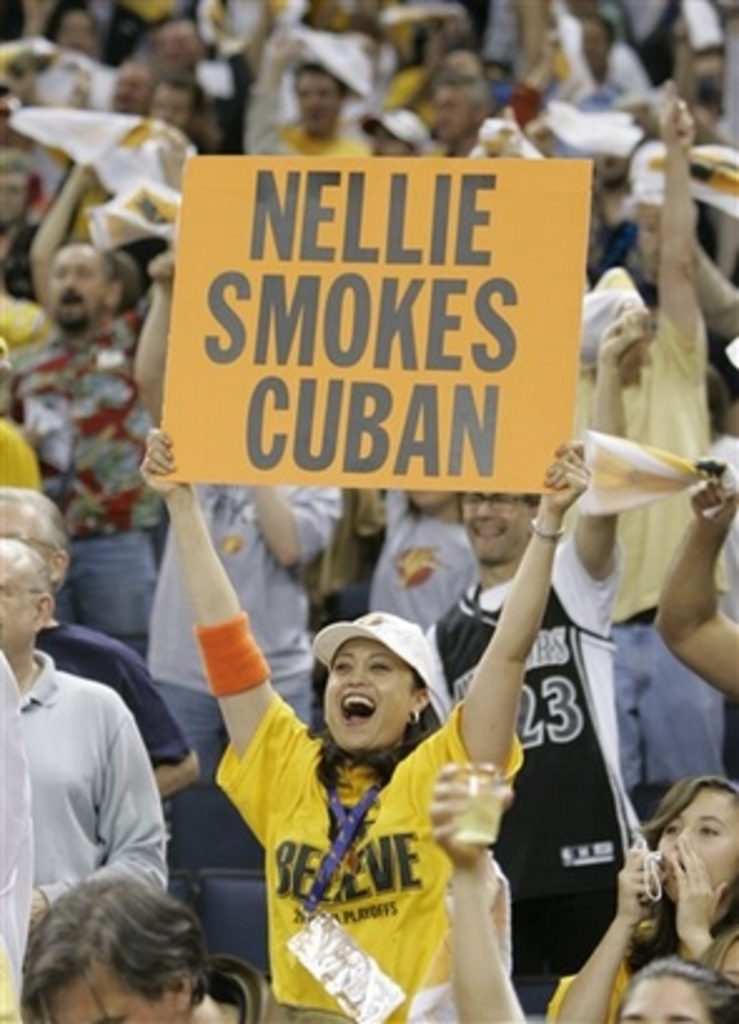Human_hand: (426, 756, 516, 866), (669, 834, 729, 944), (135, 426, 193, 506), (614, 839, 661, 929), (541, 441, 591, 518), (594, 308, 649, 366), (694, 458, 736, 533), (654, 75, 694, 148), (261, 23, 308, 65), (155, 148, 188, 190), (145, 250, 173, 290), (68, 163, 98, 195)
